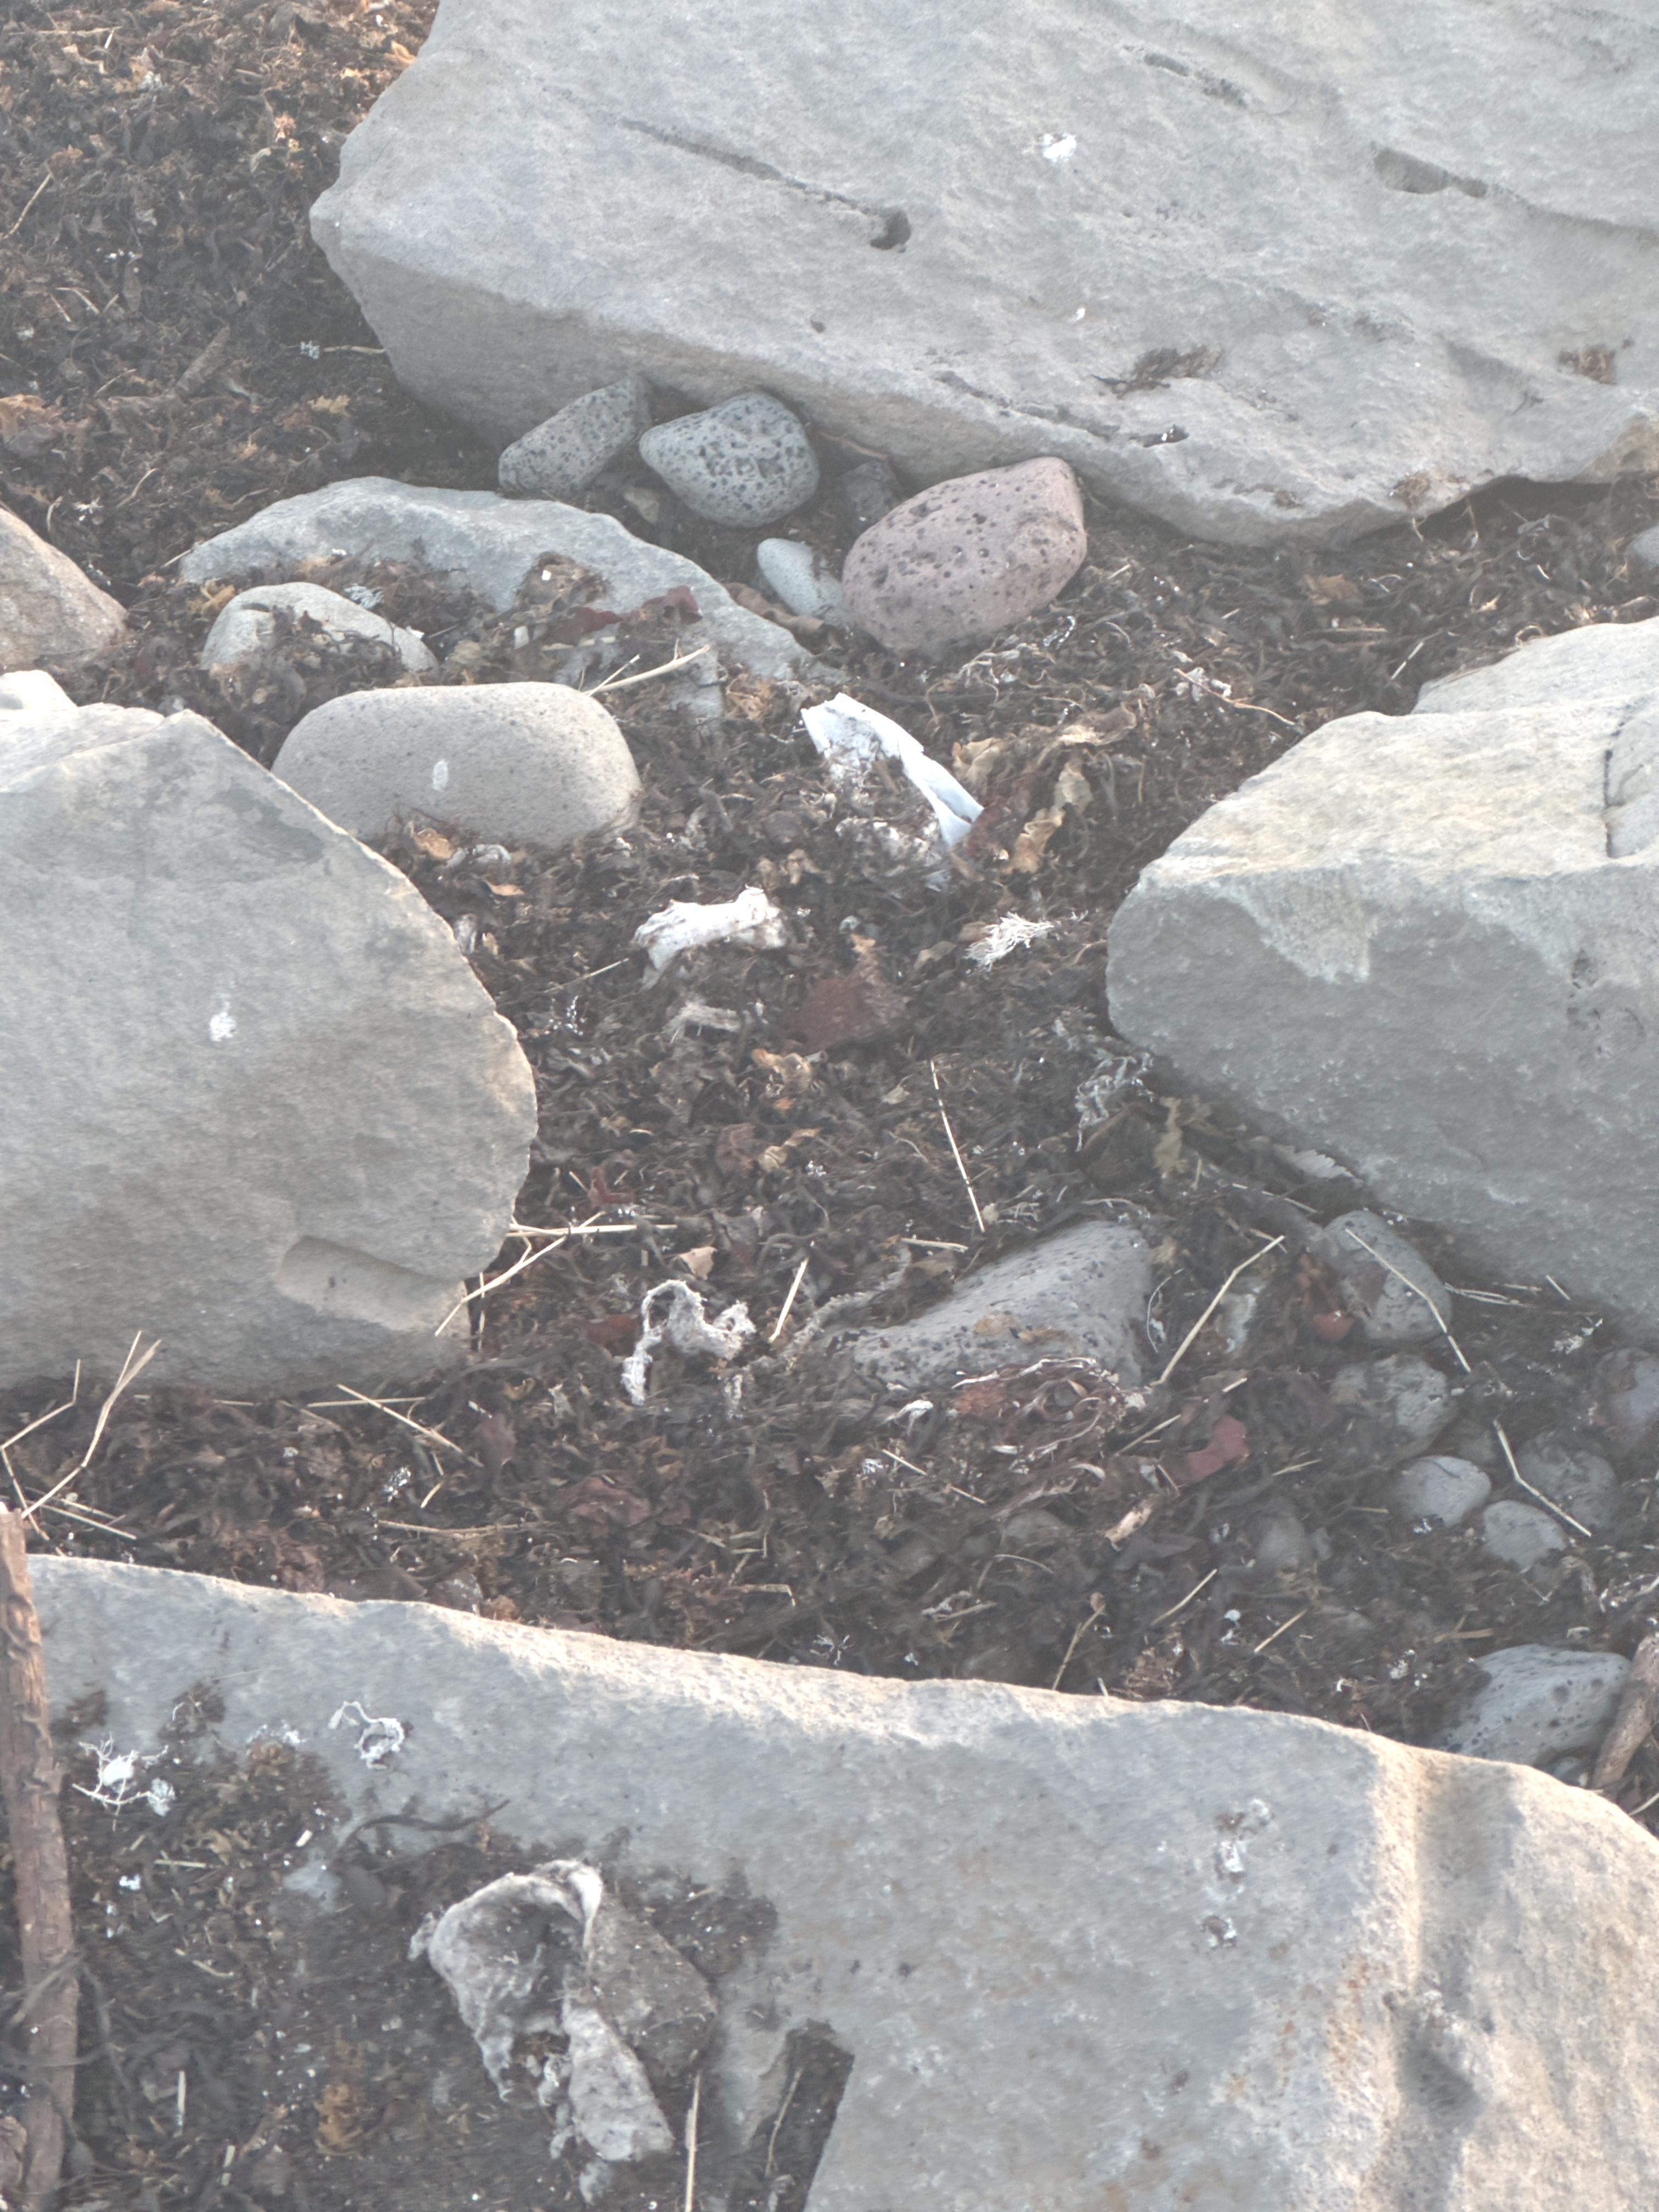trash: (803, 695, 981, 846), (622, 1278, 756, 1404), (634, 885, 786, 977), (967, 911, 1054, 968)
